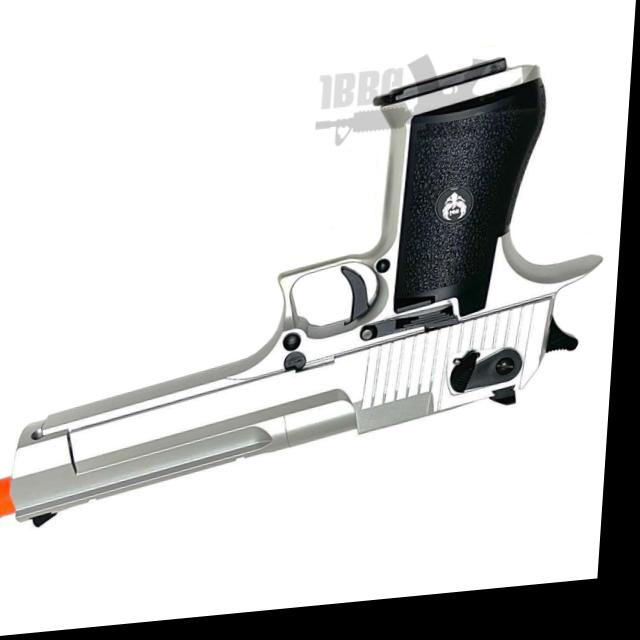handgun: (5, 58, 616, 543)
